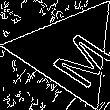M_NW: (32, 18, 106, 85)
